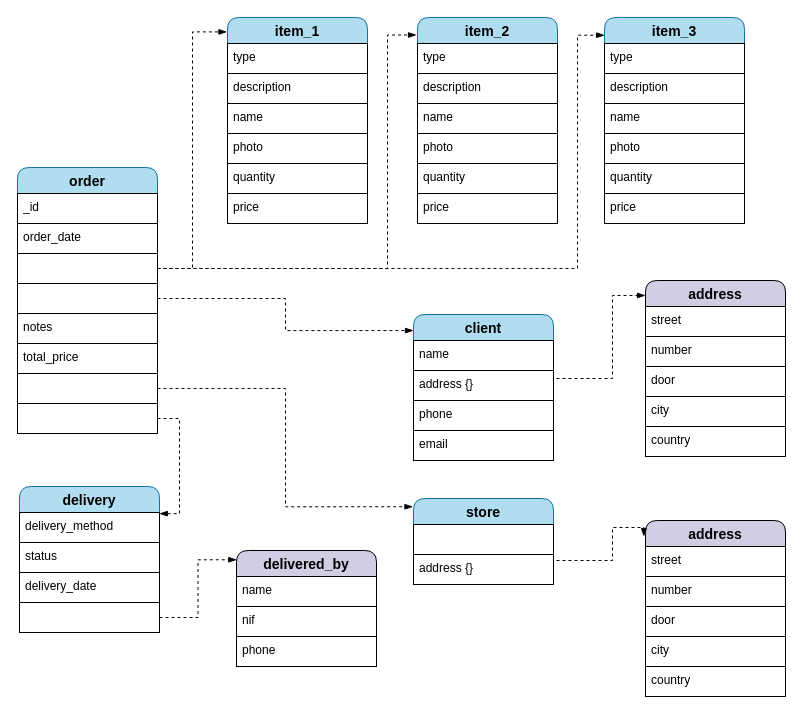
Image size: 803x717. Some labels were removed from this diagram. The centre of each missing label's shape, as x and y in pixels:
"client {}" goes at point 87,298.
"delivered_by {}" goes at point 89,617.
"delivery {}" goes at point 87,418.
"id" goes at point 483,539.
"items {}" goes at point 87,268.
"store {}" goes at point 87,388.
